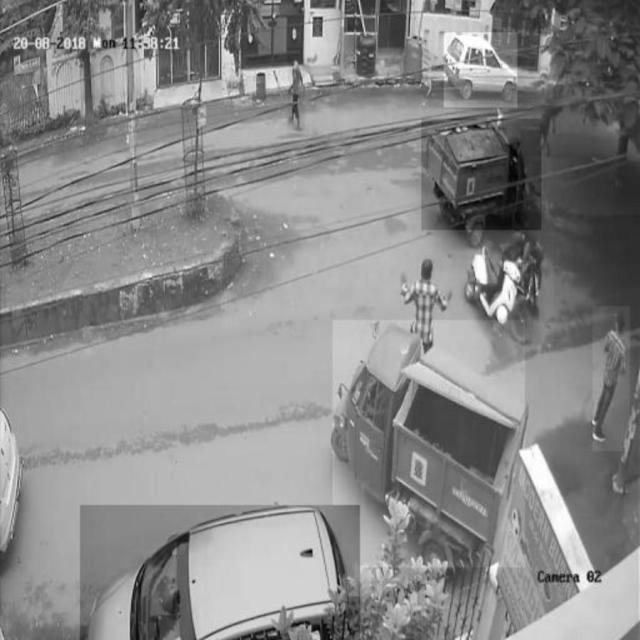accident: (468, 233, 554, 341)
person: (592, 307, 630, 451), (287, 48, 305, 130)
vehicle: (333, 320, 525, 568), (80, 505, 360, 639), (422, 119, 542, 230), (444, 32, 517, 106)
